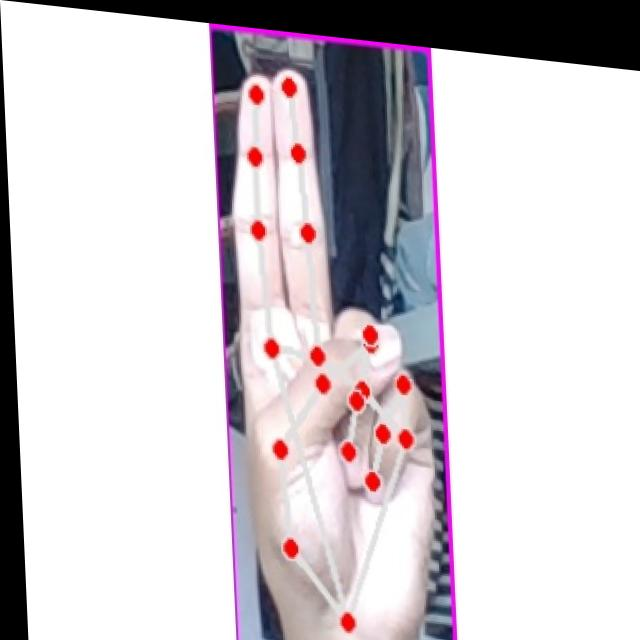U: (219, 48, 441, 640)
